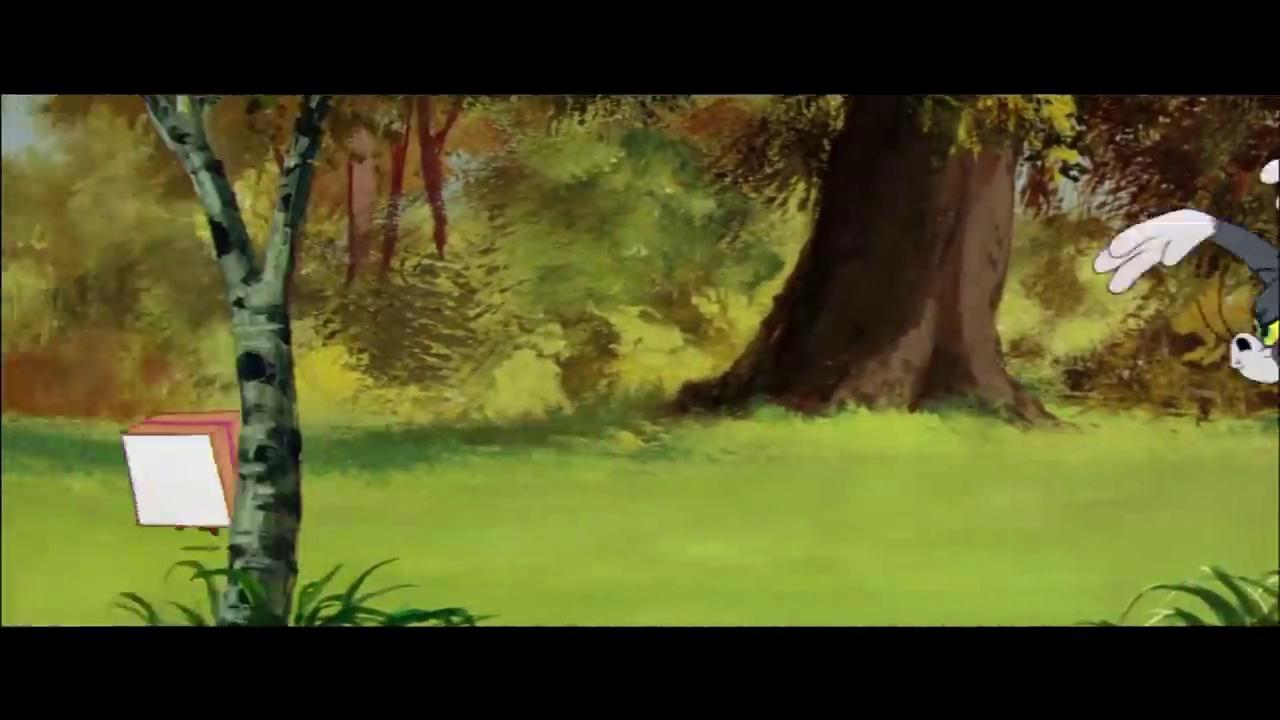Tom: (1090, 153, 1280, 389)
